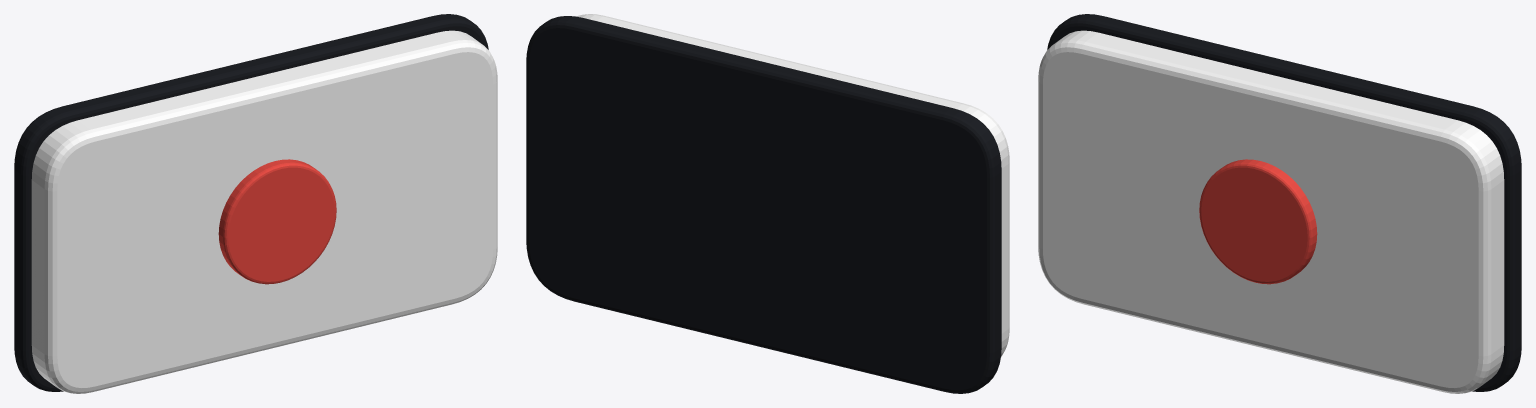
The model's file is key-record.glb.
3 views of the same model, side by side, from view 1: azimuth 30°, elevation 25°; view 2: azimuth 150°, elevation 25°; view 3: azimuth 330°, elevation 25° (orthographic).
Visible parts, largest first — view 1: key-record-cap, key-record-socket, key-record-icon; view 2: key-record-socket, key-record-cap; view 3: key-record-cap, key-record-socket, key-record-icon.
Part boxes in pixels (<box>): key-record-cap: <box>31,30,497,393</box>; key-record-socket: <box>14,14,488,391</box>; key-record-icon: <box>218,159,336,284</box>; key-record-socket: <box>526,16,1001,393</box>; key-record-cap: <box>576,14,1009,356</box>; key-record-cap: <box>1038,30,1504,393</box>; key-record-socket: <box>1047,14,1521,391</box>; key-record-icon: <box>1199,159,1317,284</box>.
Size of the model in its own units: 1.16 by 0.66 by 0.152.
